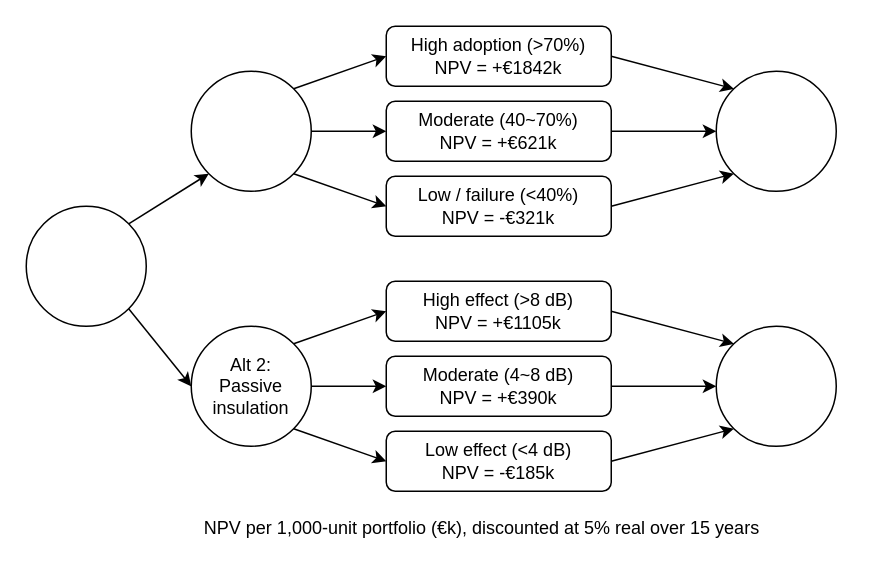
The diagram is 884 pixels wide and 578 high, and some of its shapes have lost their labels. The centre of each missing label's shape, as x and y in pixels:
"Alt1: ANC System" belongs at point (250, 130).
"Decision node" belongs at point (85, 265).
"EV(Alt 1) ≈ +€804k" belongs at point (775, 130).
"EV(Alt 2) ≈ +€488k" belongs at point (775, 385).
